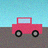vehicle: (12, 18, 42, 37)
